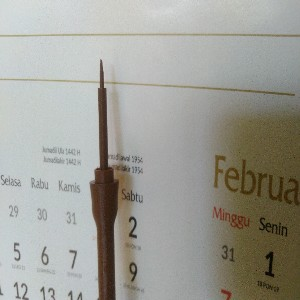solder: (88, 58, 120, 300)
